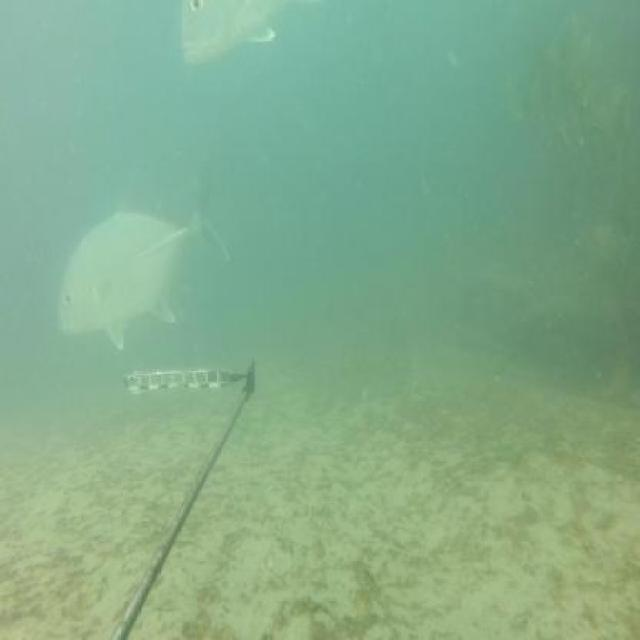Caranx: (56, 166, 230, 354), (177, 3, 285, 74)
